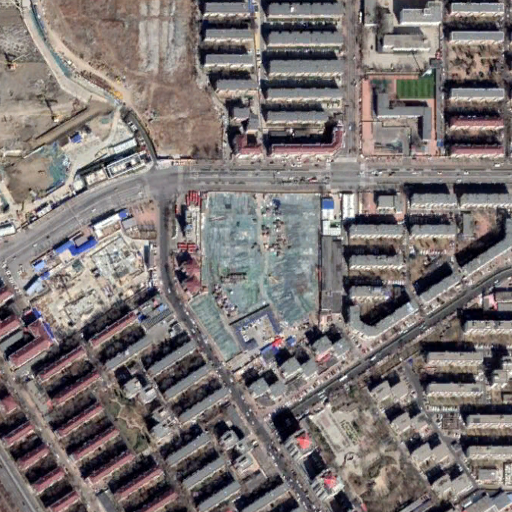cw: (185, 193, 319, 360)
